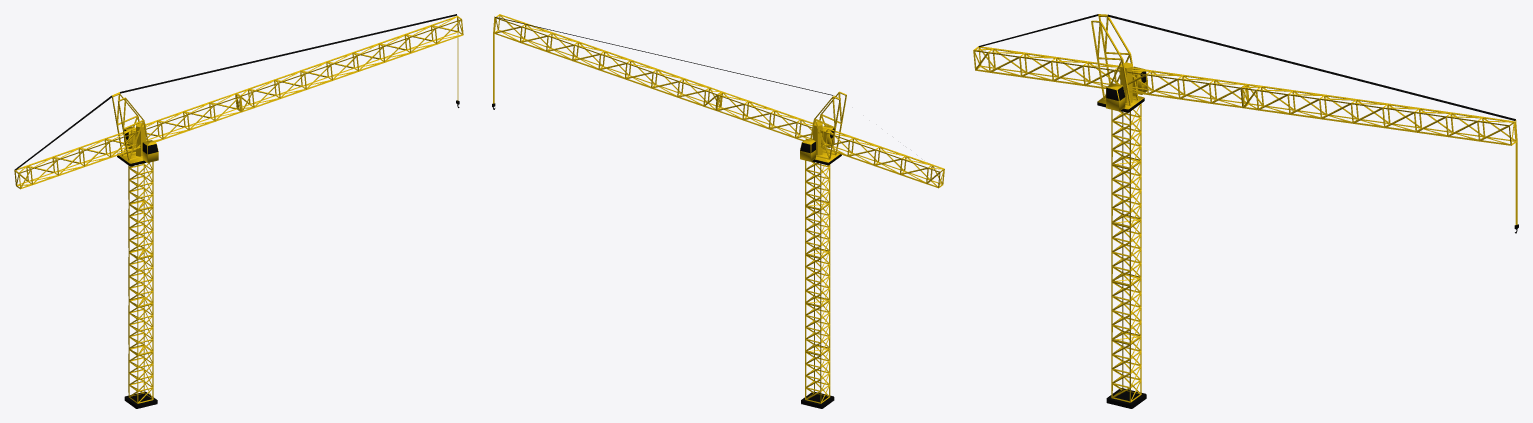
The model's file is Crane.fbx.
The picture shows the model from 3 angles, left to right: view 1: azimuth 30°, elevation 25°; view 2: azimuth 150°, elevation 25°; view 3: azimuth 330°, elevation 25°; orthographic projection. The views are drawn at different scales.
Parts seen in each view (by area): view 1: Crane; view 2: Crane; view 3: Crane.
Part boxes in pixels (box(x1,y1,x2,y2)): Crane: box(14, 14, 463, 408); Crane: box(492, 14, 944, 408); Crane: box(973, 14, 1518, 408).
Size of the model in its own units: 5876 by 3940 by 542.
